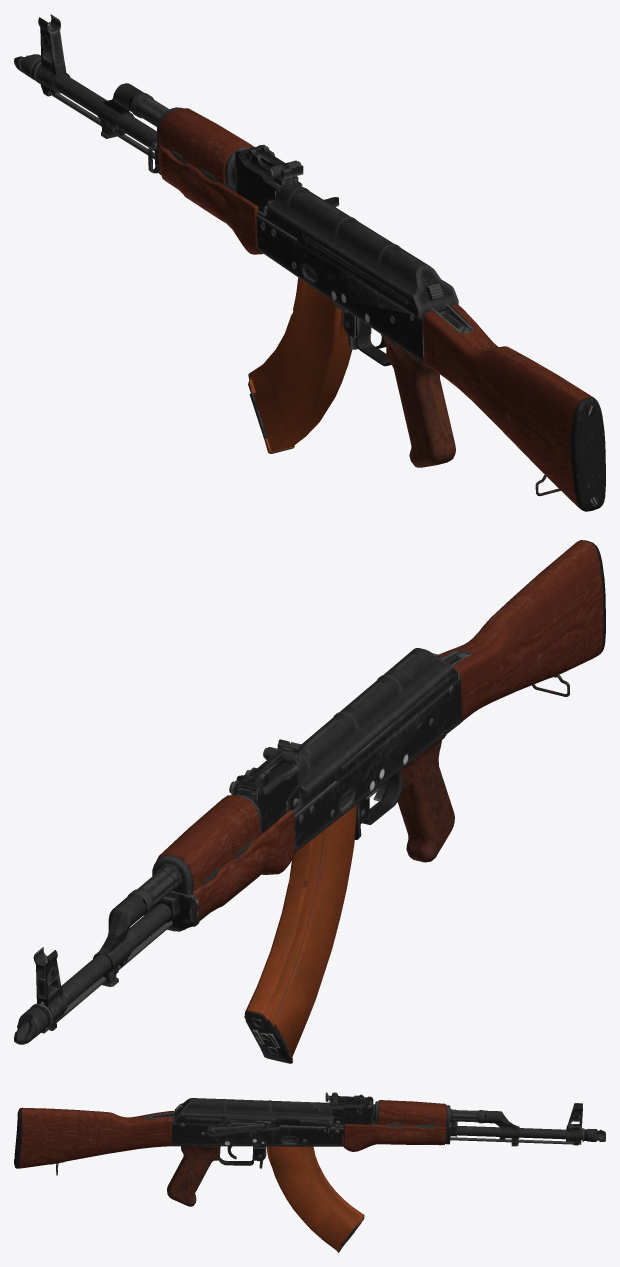
Rendered from akm.glb.
3 renders of one model, top to bottom at view 1: azimuth 30°, elevation 25°; view 2: azimuth 150°, elevation 25°; view 3: azimuth 270°, elevation 25°, orthographic. The views are drawn at different scales.
Visible parts, largest first — view 1: body, mag; view 2: body, mag; view 3: body, mag.
Part boxes in pixels (box(x1,y1,x2,y2)): body: box(14, 14, 605, 511); mag: box(248, 277, 358, 453); body: box(14, 540, 605, 1044); mag: box(244, 804, 361, 1063); body: box(14, 1092, 605, 1206); mag: box(259, 1146, 364, 1252).
Size of the model in its own units: 0.0699 by 0.2548 by 0.88.
3 materials, 3 textured.
